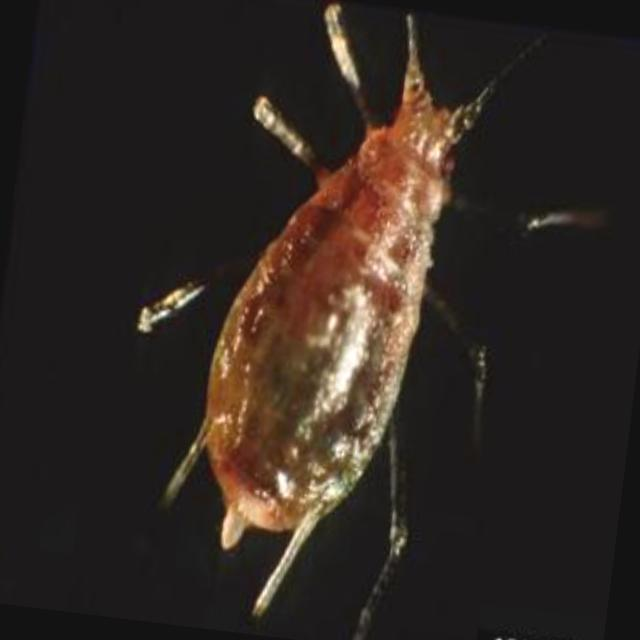Green peach aphid: (85, 0, 637, 625)
